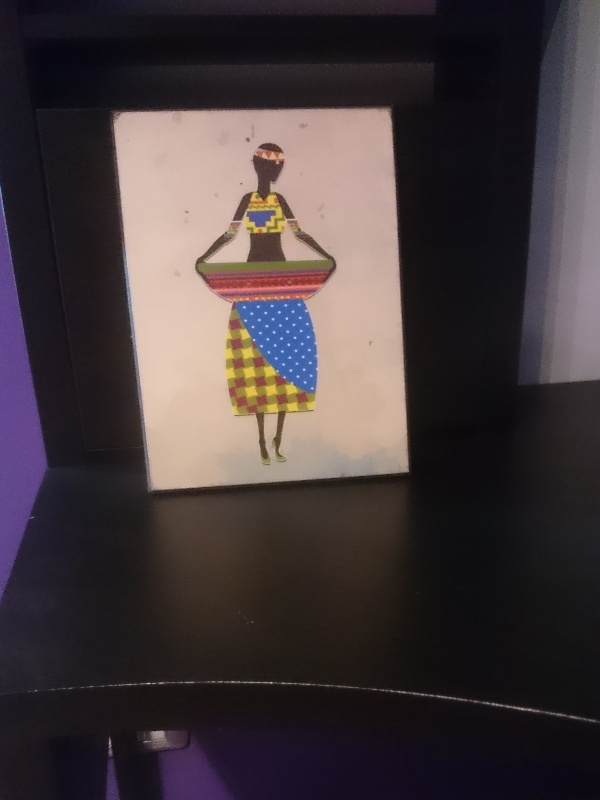my image: (116, 110, 397, 493)
